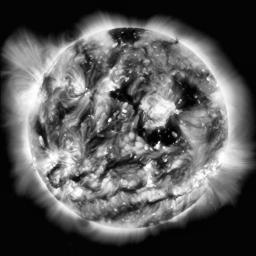solar flares: (143, 95, 174, 121), (46, 150, 74, 166), (71, 79, 86, 97), (53, 77, 67, 89)
sunspots: (141, 120, 176, 146), (175, 79, 199, 109), (115, 81, 134, 108), (111, 28, 139, 41), (89, 130, 106, 149), (109, 158, 138, 168), (38, 123, 49, 144)
